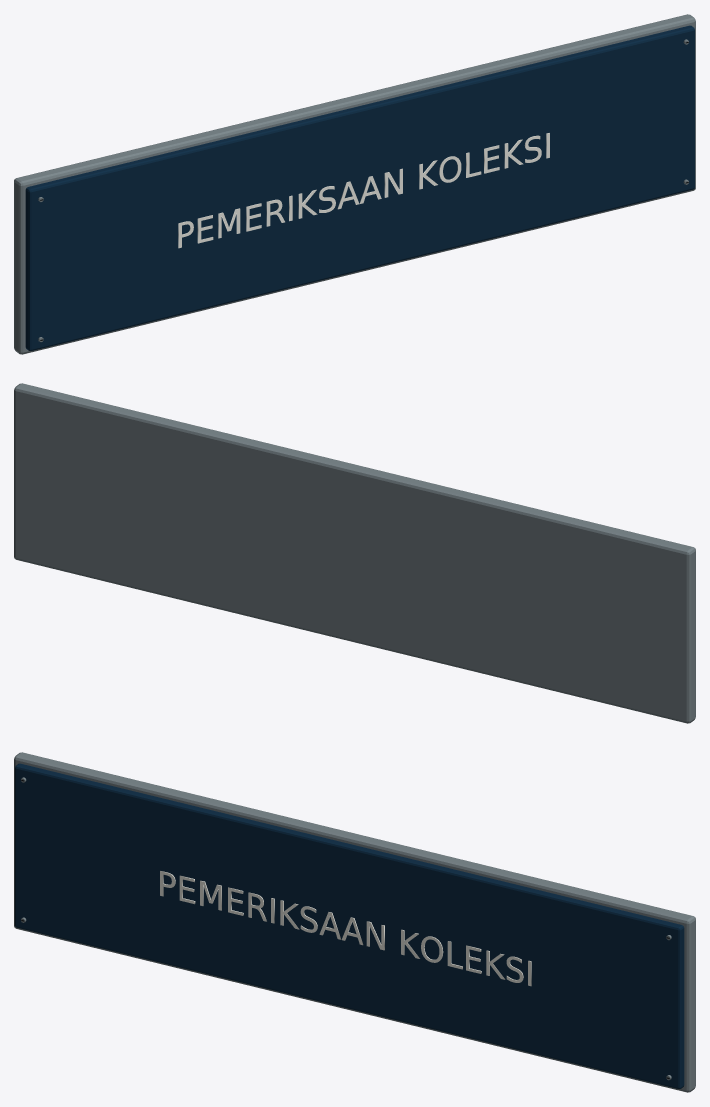
The model's file is OAA_Papan_Ruang_Pemeriksaan_Koleksi.fbx.
The picture shows the model from 3 angles, top to bottom: view 1: azimuth 30°, elevation 25°; view 2: azimuth 150°, elevation 25°; view 3: azimuth 330°, elevation 25°; orthographic projection.
Parts seen in each view (by area): view 1: Body; view 2: Body; view 3: Body.
Boxes of the visible parts, box(x1,y1,x2,y2) form: Body: box(14, 14, 695, 354); Body: box(14, 383, 695, 723); Body: box(14, 752, 695, 1092).
Bounding box in the file's own units: 0.9 × 0.22 × 0.0312.
